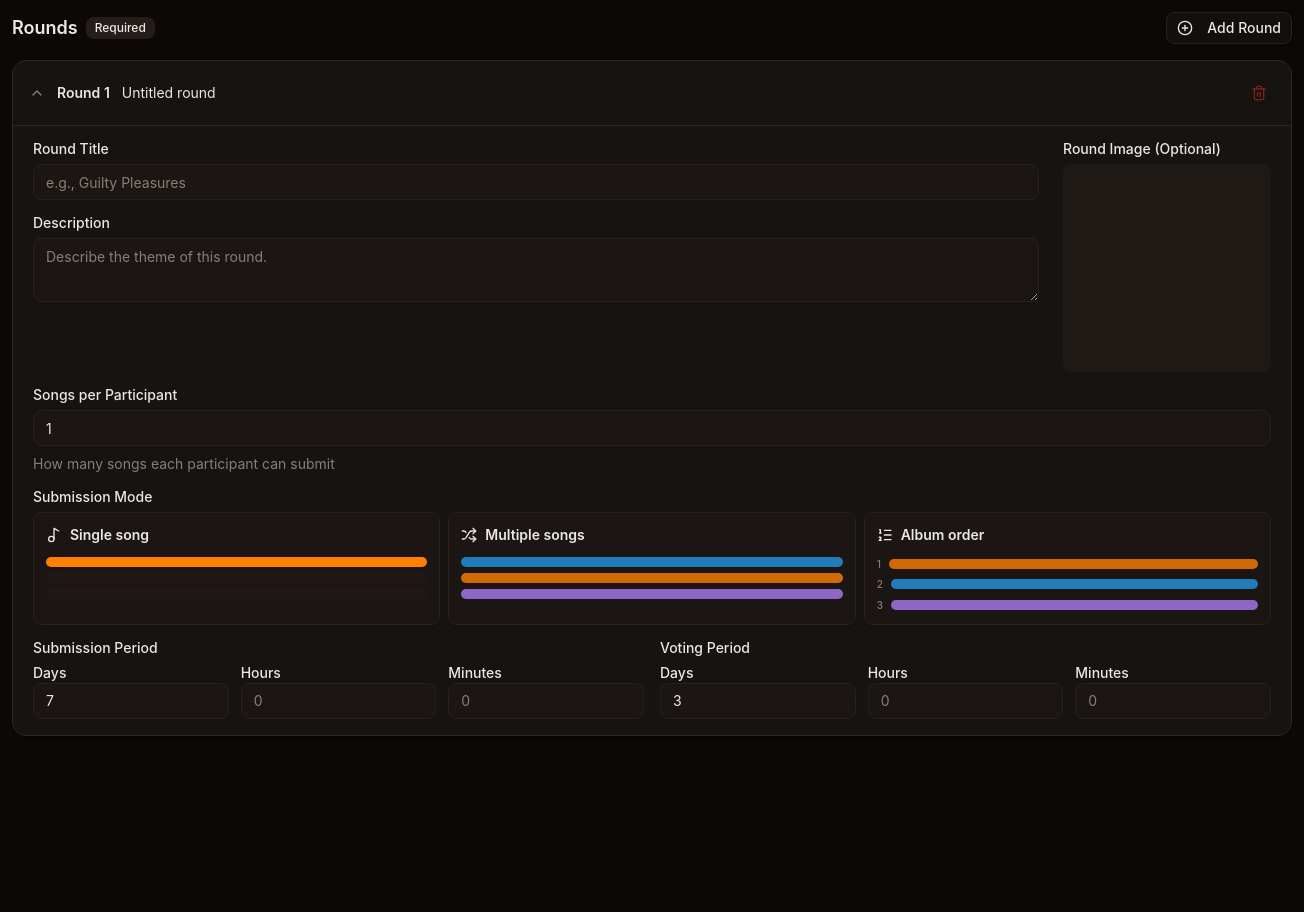
it: LeagueRoundsSection › collapses a round into a summary with title, description, and delete
The width and height of the screenshot is (1304, 912).
Type "Guilty Pleasures" into the field labelled "Round Title" at (536,182), box x1=33 y1=164 x2=1039 y2=200
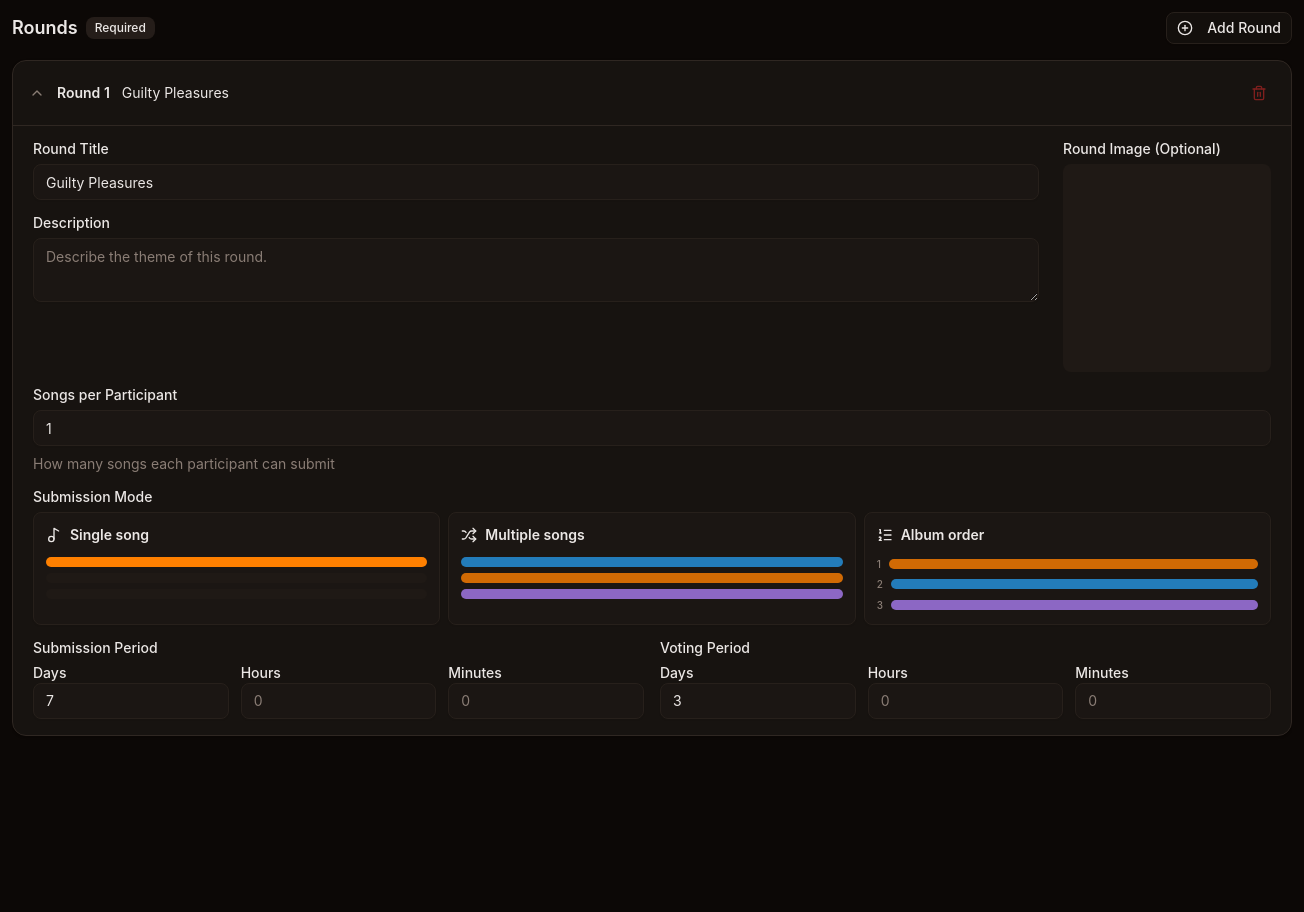
Type "Songs that feel illegal to enjoy." into the text box labelled "Description" at (536,270), box x1=33 y1=238 x2=1039 y2=302
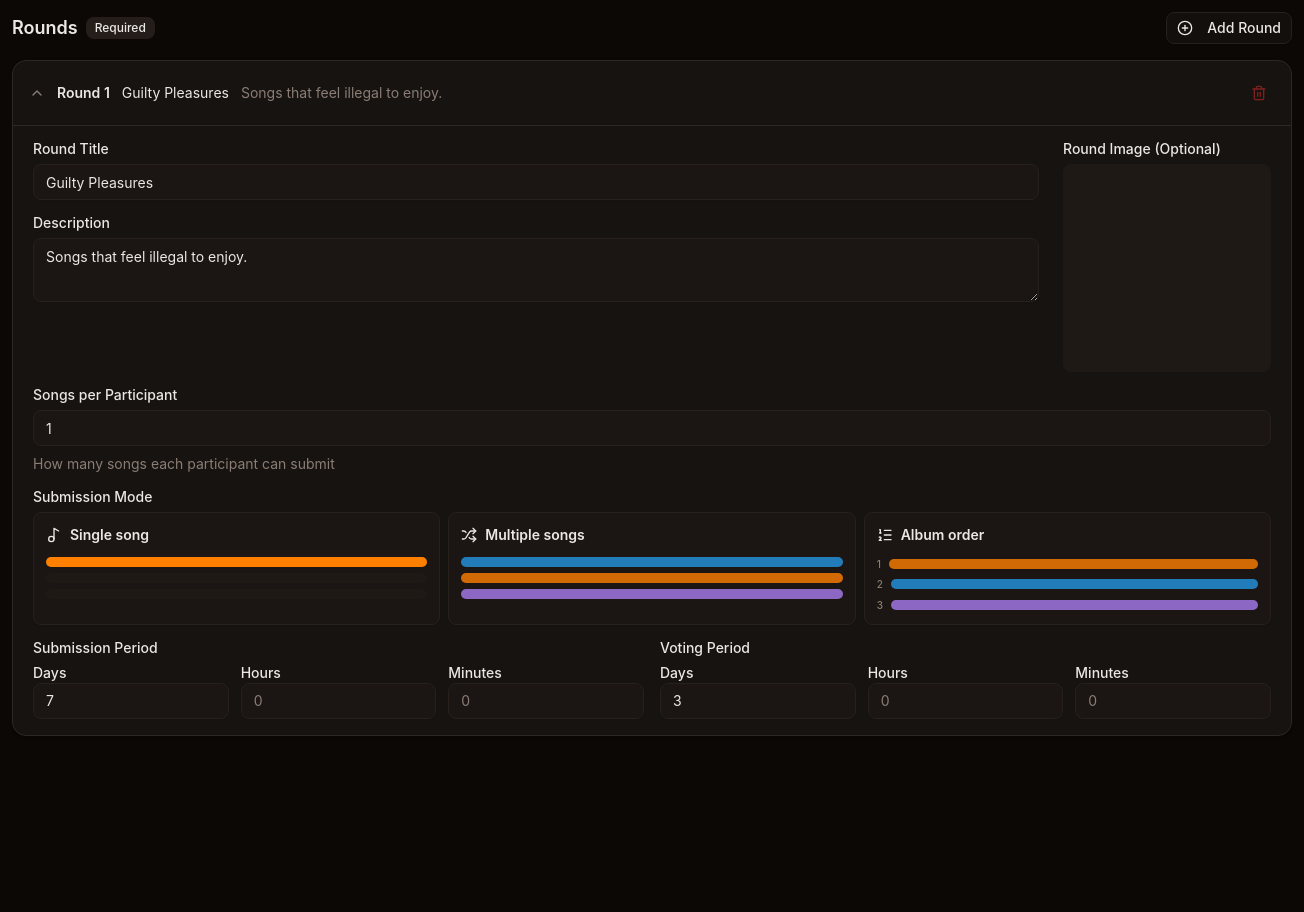
Click the button with aria-label "Round 1 - Guilty Pleasures" at (80,92), box x1=29 y1=83 x2=1235 y2=103
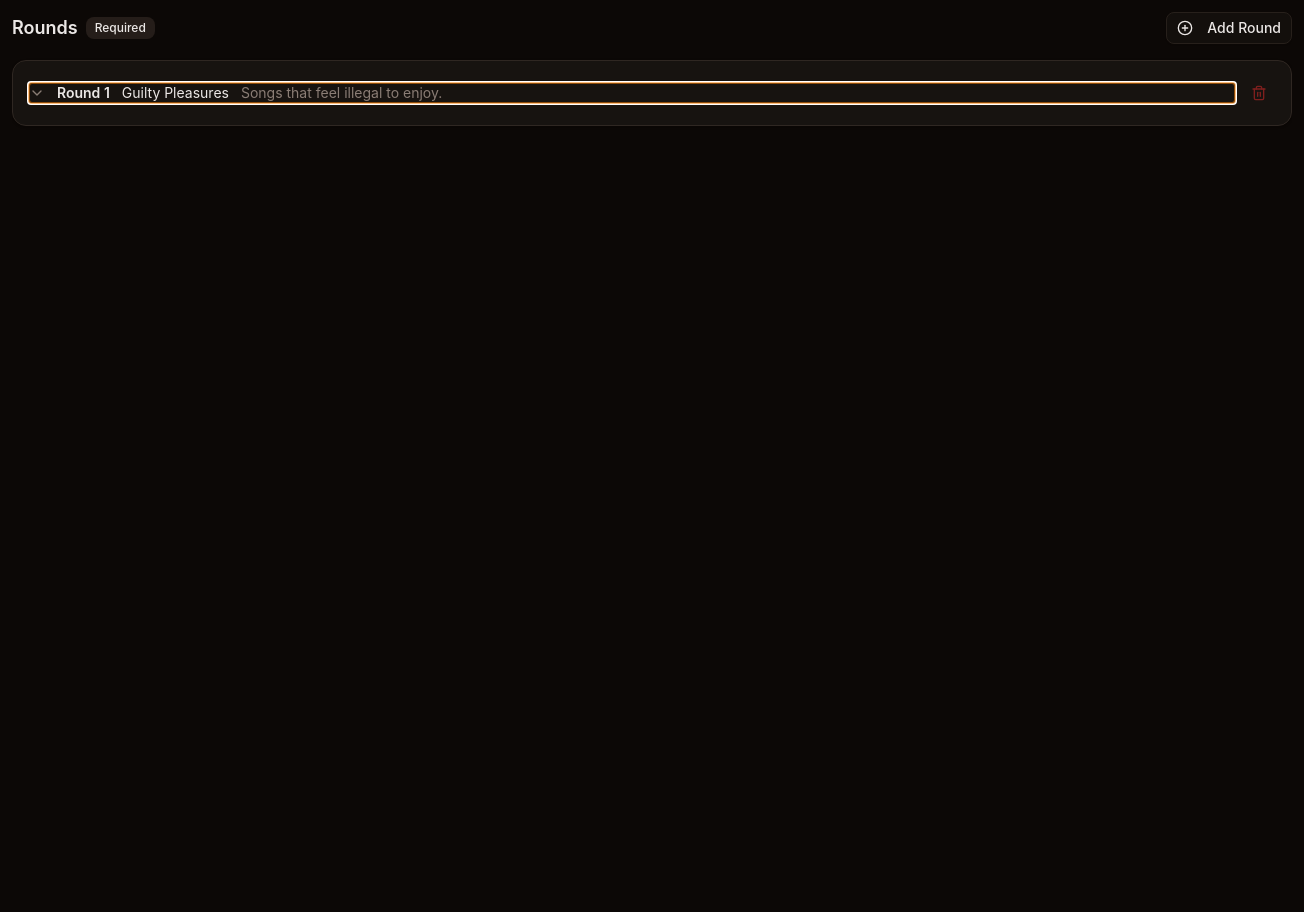
Expected: the text "Guilty Pleasures" is shown, x1=122 y1=83 x2=229 y2=103
Expected: the button with aria-label "Round 1 - Guilty Pleasures" is collapsed, x1=29 y1=83 x2=1235 y2=103
Expected: the label labelled "Round Title" is gone
